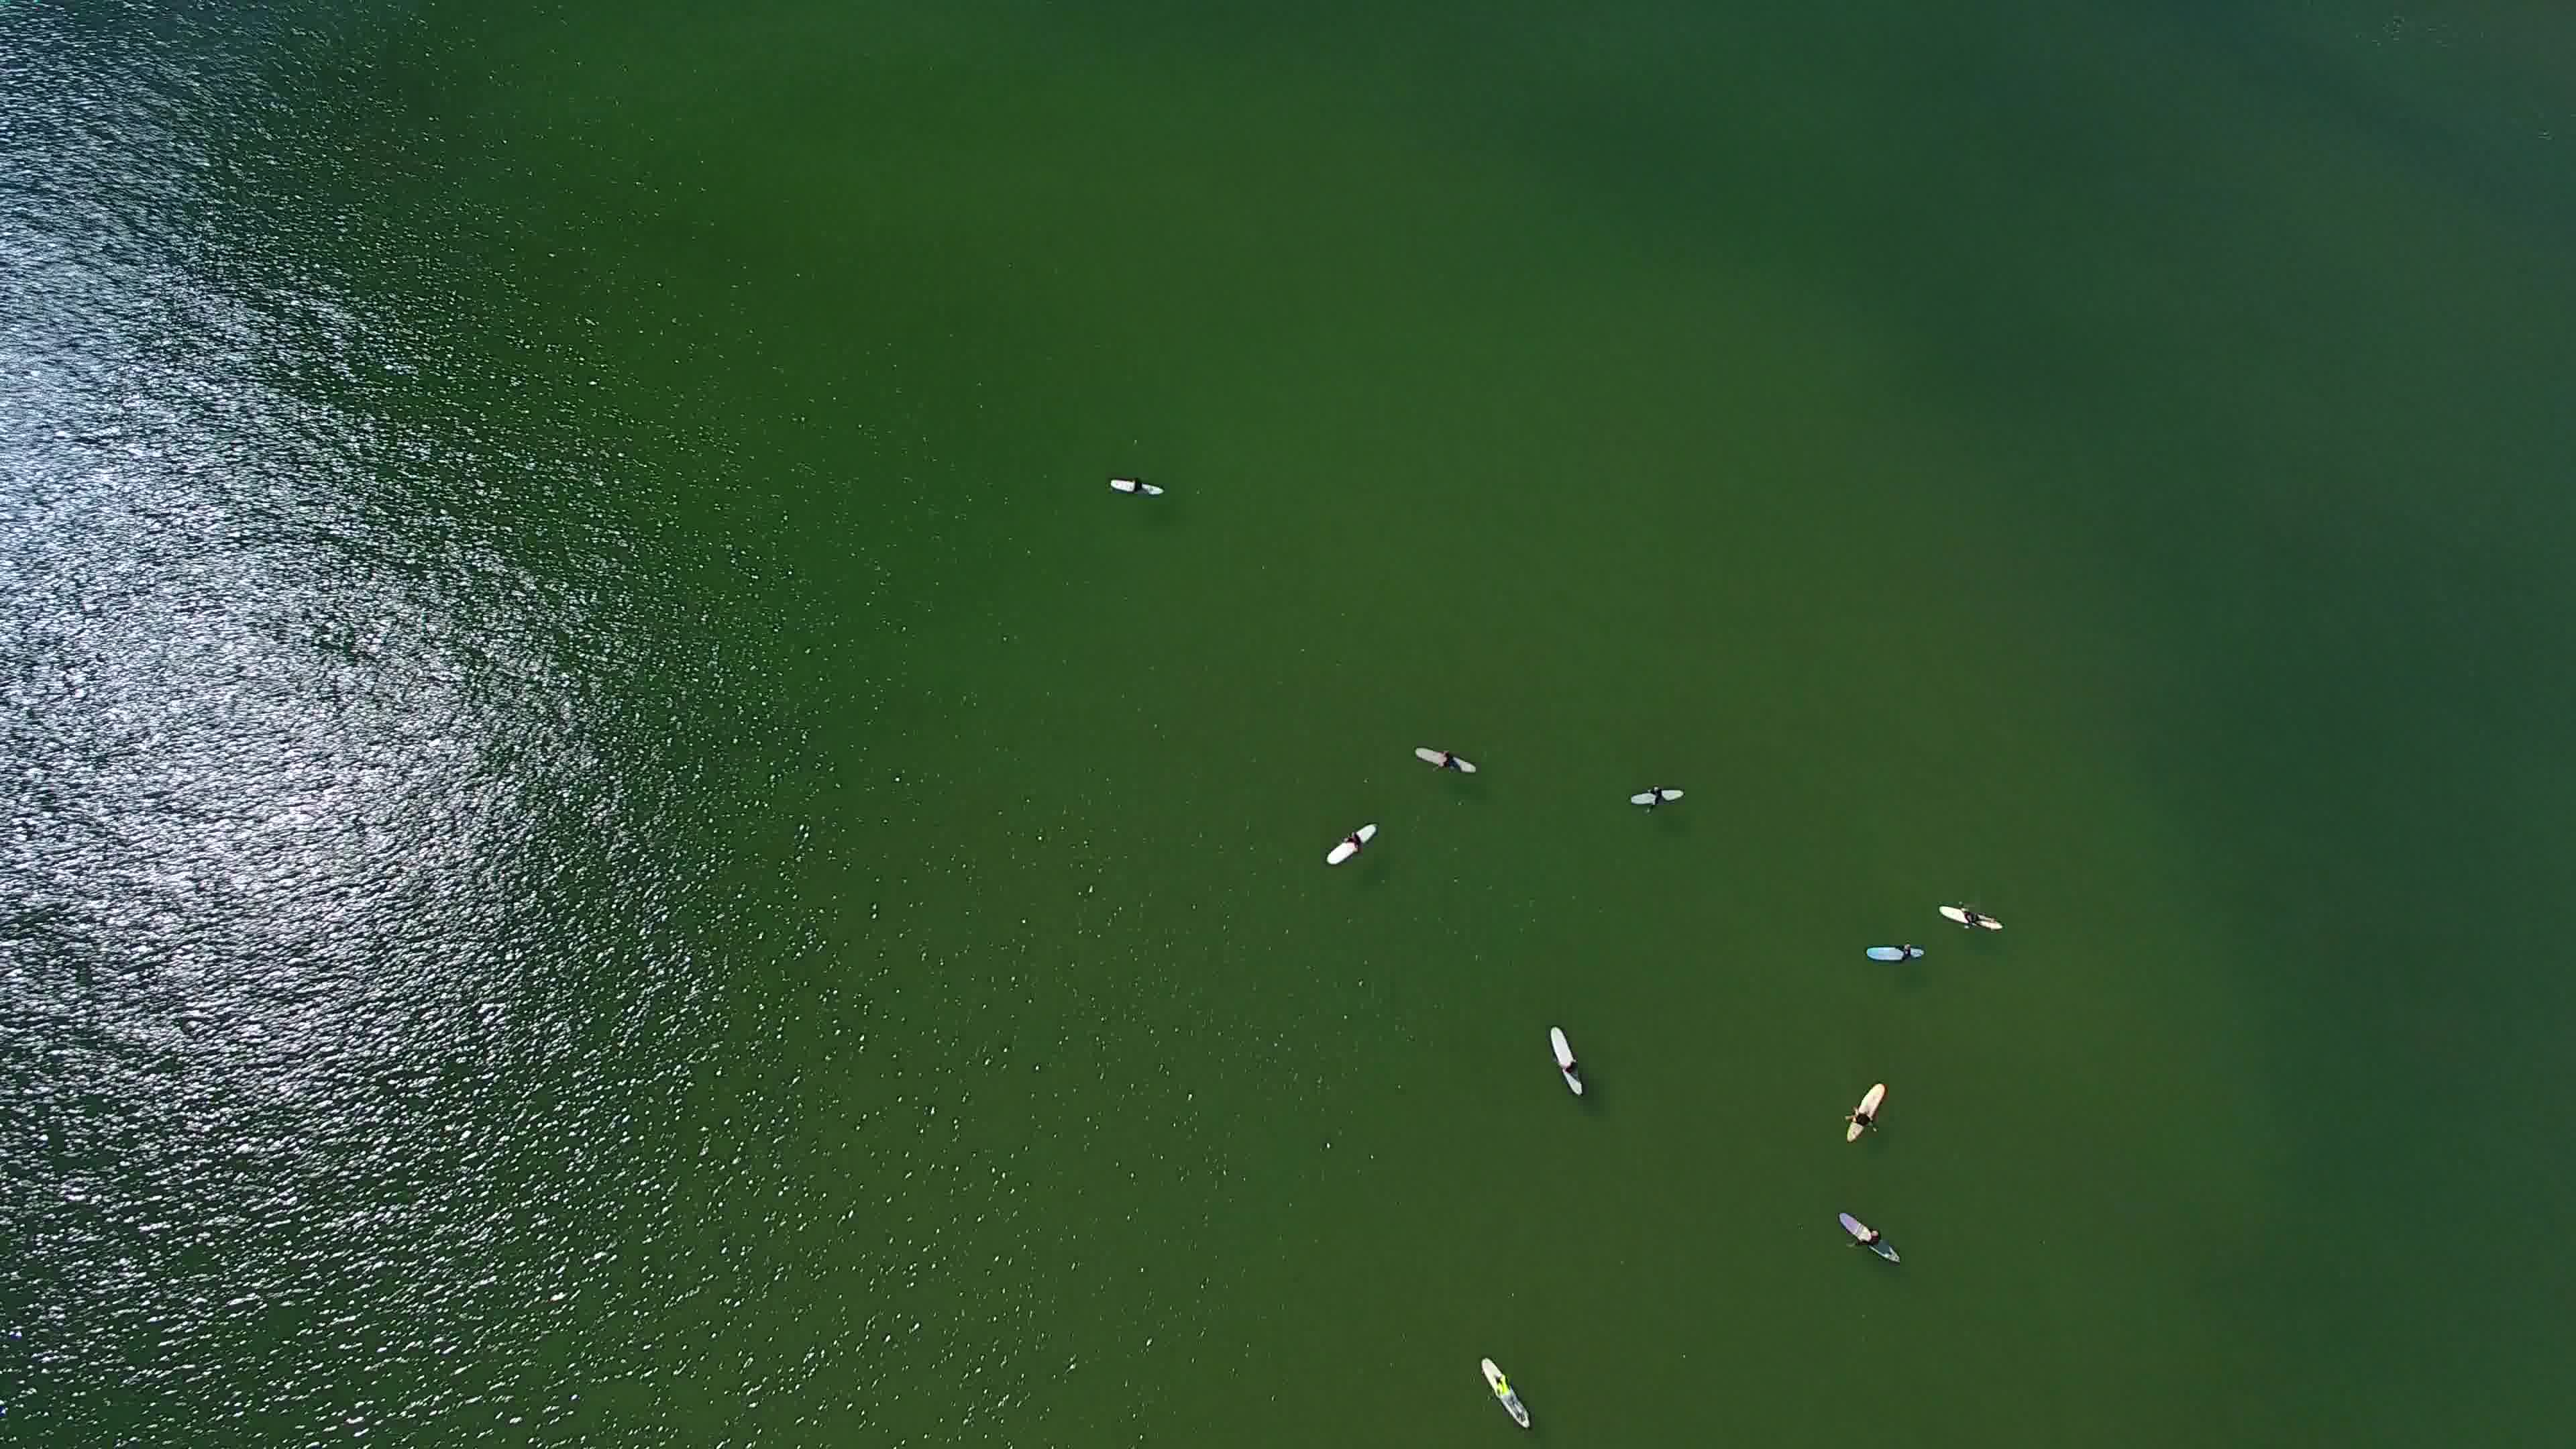surfer: (1833, 1201, 1916, 1274), (1477, 1346, 1545, 1433), (1835, 1076, 1897, 1146), (1539, 1021, 1594, 1099), (1320, 816, 1384, 878), (1407, 732, 1483, 777), (1100, 464, 1171, 506), (1937, 901, 2008, 936), (1863, 936, 1928, 970), (1626, 780, 1686, 816)
